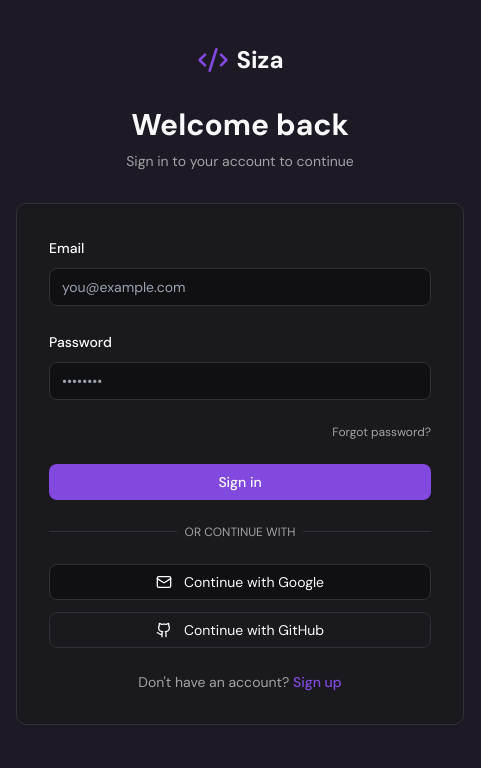
SignInPage › should handle Google OAuth error
Click the button "Continue with Google".
click(240, 582)  # box [49,564,431,600]
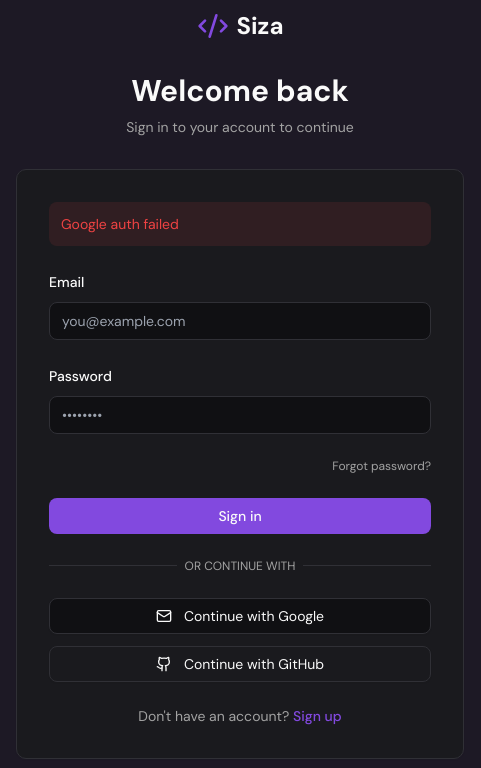
Check: the text "Google auth failed" is shown, box [49,202,431,246]
